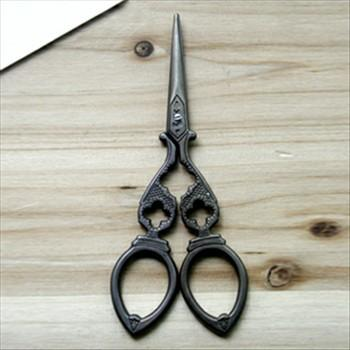scissor: (115, 6, 272, 338)
